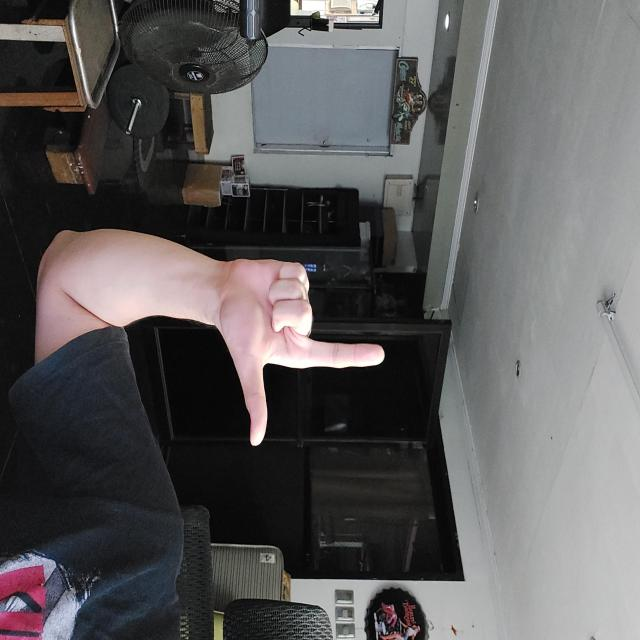L: (258, 254, 448, 422)
